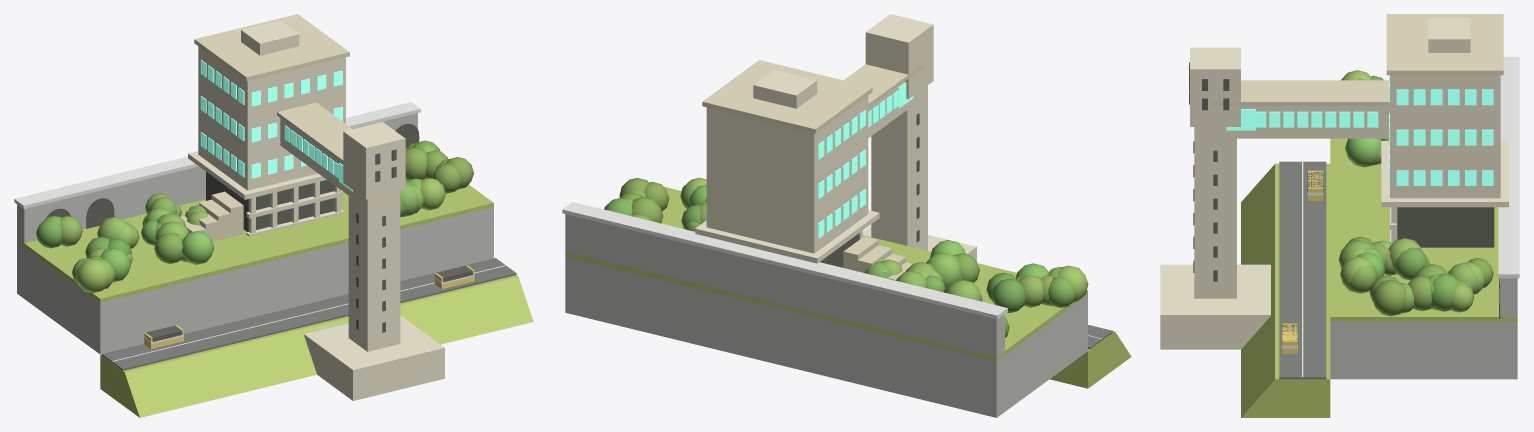
File: elevador-lacerda.gltf
The picture shows the model from 3 angles, left to right: view 1: azimuth 30°, elevation 25°; view 2: azimuth 150°, elevation 25°; view 3: azimuth 270°, elevation 25°; orthographic projection. The views are drawn at different scales.
Parts seen in each view (by area): view 1: ElevadorLacerda; view 2: ElevadorLacerda; view 3: ElevadorLacerda.
Boxes of the visible parts, <box> form: ElevadorLacerda: <box>14,14,533,417</box>; ElevadorLacerda: <box>562,14,1131,417</box>; ElevadorLacerda: <box>1160,14,1519,417</box>.
Bounding box in the file's own units: 12.46 × 7.67 × 8.45.
